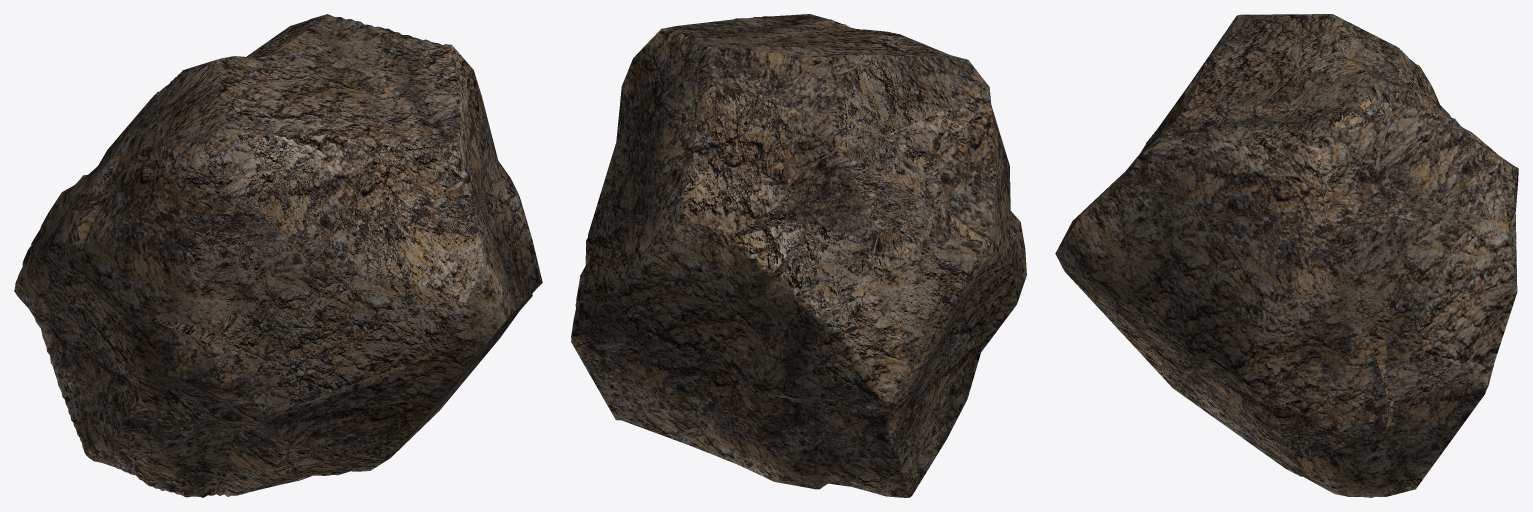
Rendered from rock_02.DAE.
3 renders of one model, left to right at view 1: azimuth 30°, elevation 25°; view 2: azimuth 150°, elevation 25°; view 3: azimuth 270°, elevation 25°, orthographic. The views are drawn at different scales.
Parts seen in each view (by area): view 1: rock001; view 2: rock001; view 3: rock001.
Boxes of the visible parts, box(x1,y1,x2,y2) form: rock001: box(14, 14, 542, 497); rock001: box(571, 14, 1026, 497); rock001: box(1055, 14, 1518, 497).
Size of the model in its own units: 2.43 by 2.46 by 2.52.
